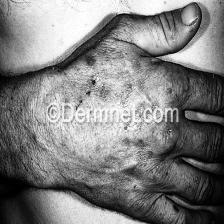Benign Marking or Mole: (91, 79, 96, 87), (87, 89, 91, 96)
